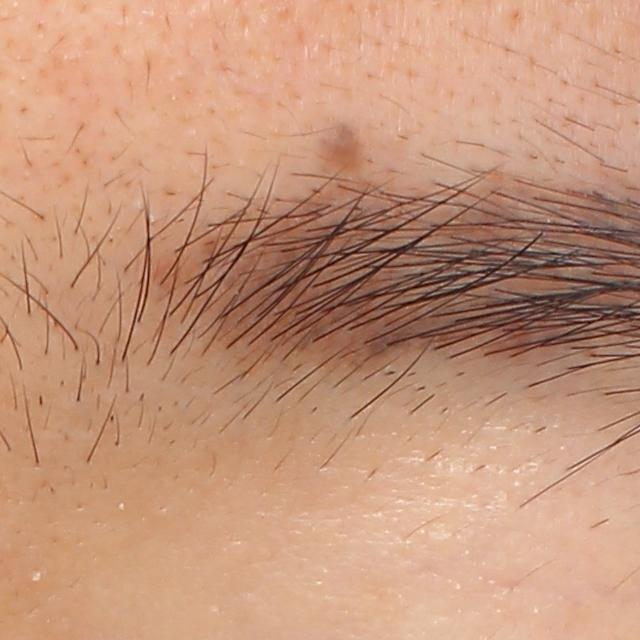nevus: (317, 122, 365, 181)
